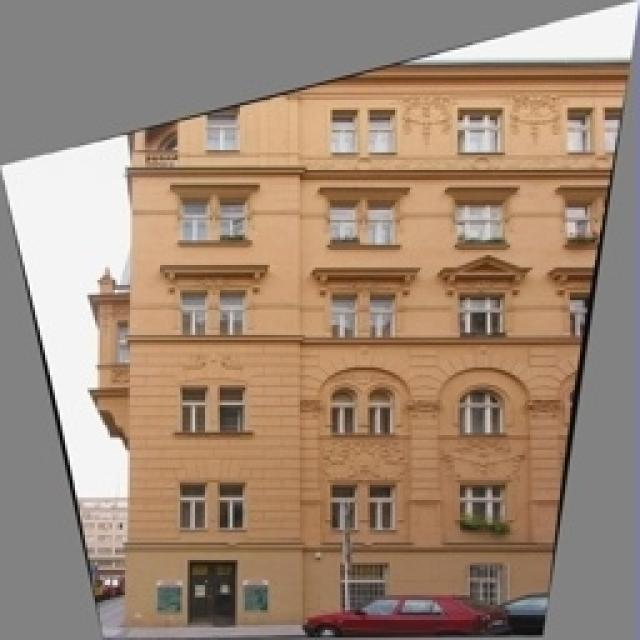building: (85, 35, 640, 640)
